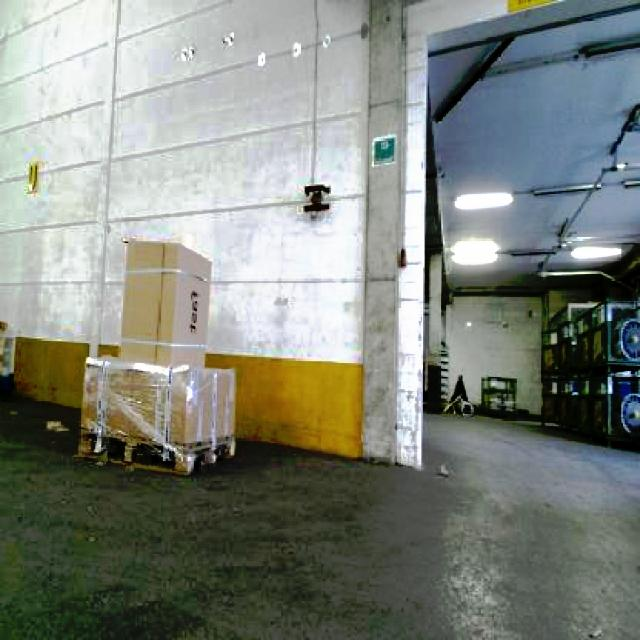ground: (0, 386, 638, 638)
pallet: (75, 354, 237, 475), (538, 295, 638, 452), (117, 237, 211, 368), (480, 375, 517, 417), (0, 314, 14, 400), (0, 280, 8, 402)
